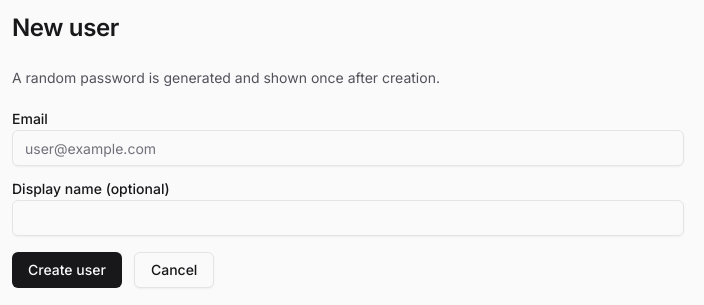
Test: AdminUserNewRoute › renders an Open user and Back to users button after creation
Type "newbie@example.com" into the field labelled "Email" at (348, 148), box [12,130,684,166]
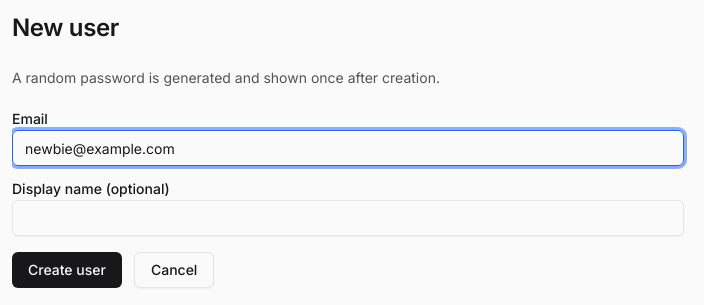
Click the button "Create user" at (67, 270), box [12,252,122,288]
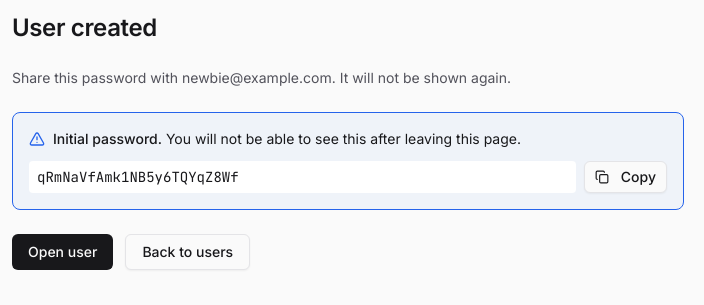
expect the button "Open user" is shown: met, box [12,234,113,270]
expect the button "Back to users" is shown: met, box [125,234,250,270]
